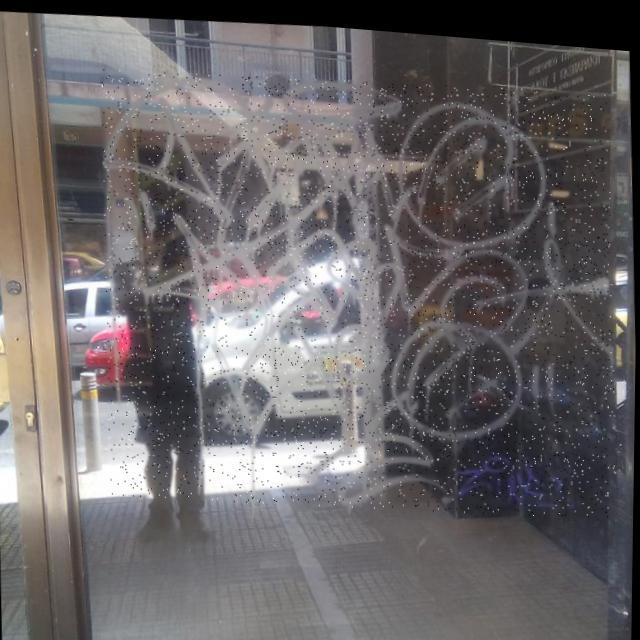-: (96, 49, 623, 526), (456, 440, 585, 504)
